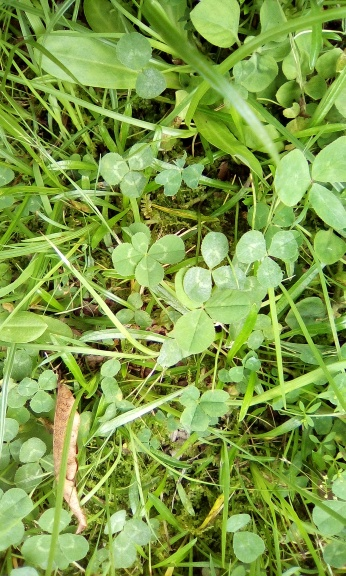4leaf: (111, 231, 186, 287)
